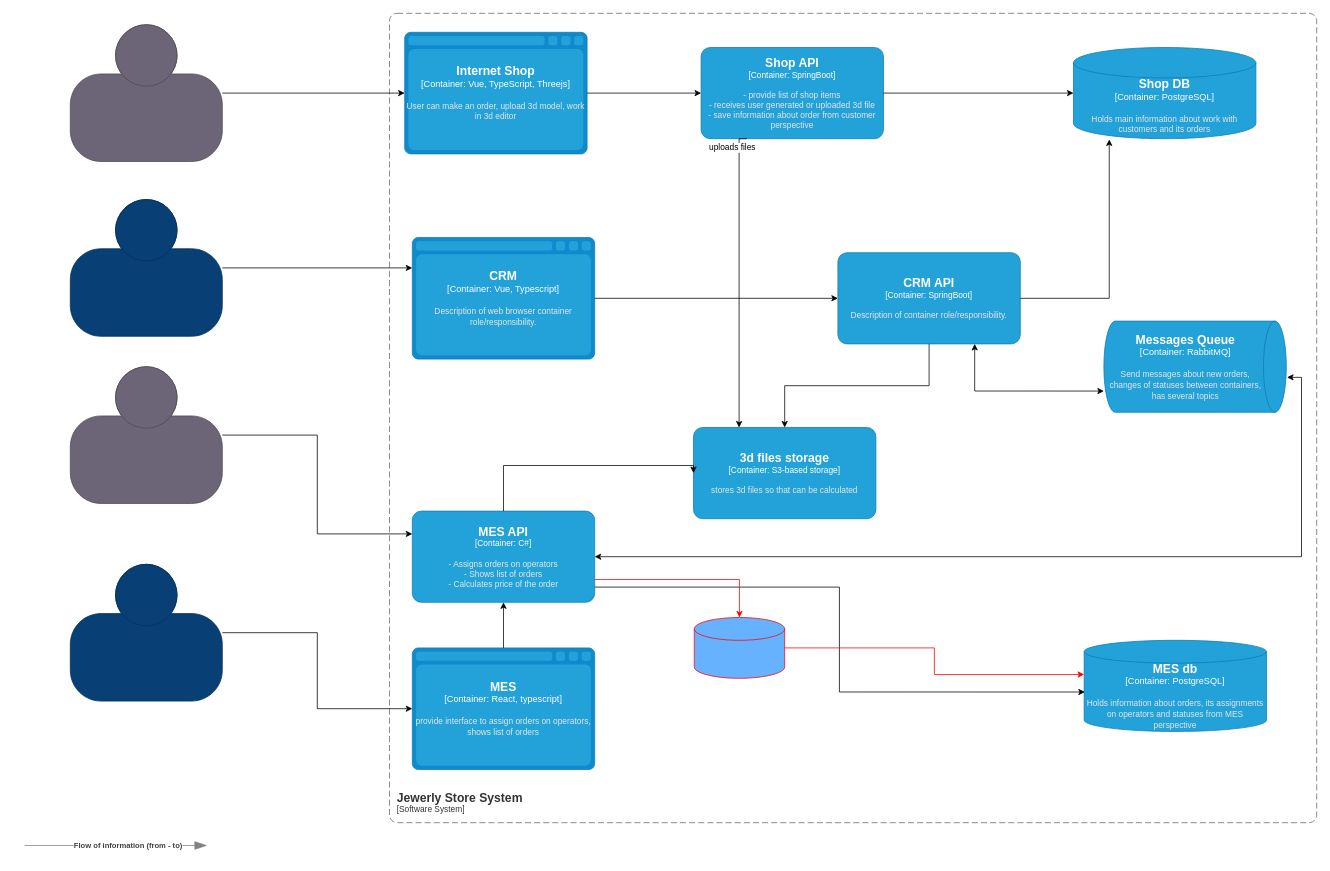
The diagram is 1330 pixels wide and 871 high, and some of its shapes have lost their labels. The centre of each missing label's shape, as x and y in pixels:
"API user [Person] Description of external person." belongs at [146,435].
"Customer [Person] Description of external person." belongs at [146,93].
"Operator [Person] Takes order in work, manufactures jewerly" belongs at [146,632].
"Redis newest orders" belongs at [739,647].
"Seller [Person] Operates with order, confirms manufacturing for the user" belongs at [146,267].
